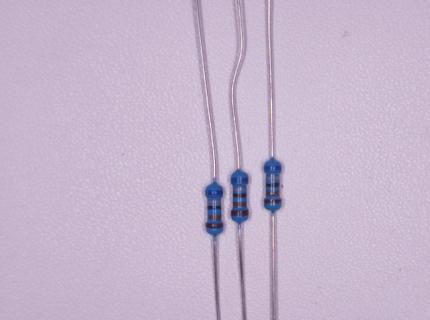Black band: (266, 182, 280, 188), (206, 205, 222, 210), (233, 193, 247, 198)
Blue band: (231, 177, 249, 183), (264, 165, 282, 171), (205, 190, 224, 195)
Brown band: (230, 209, 249, 216), (205, 222, 223, 229), (264, 199, 282, 204)
Grey band: (207, 200, 221, 204), (266, 176, 280, 180), (233, 188, 247, 191)
Orange band: (207, 215, 221, 220), (233, 202, 247, 207), (266, 190, 280, 195)
